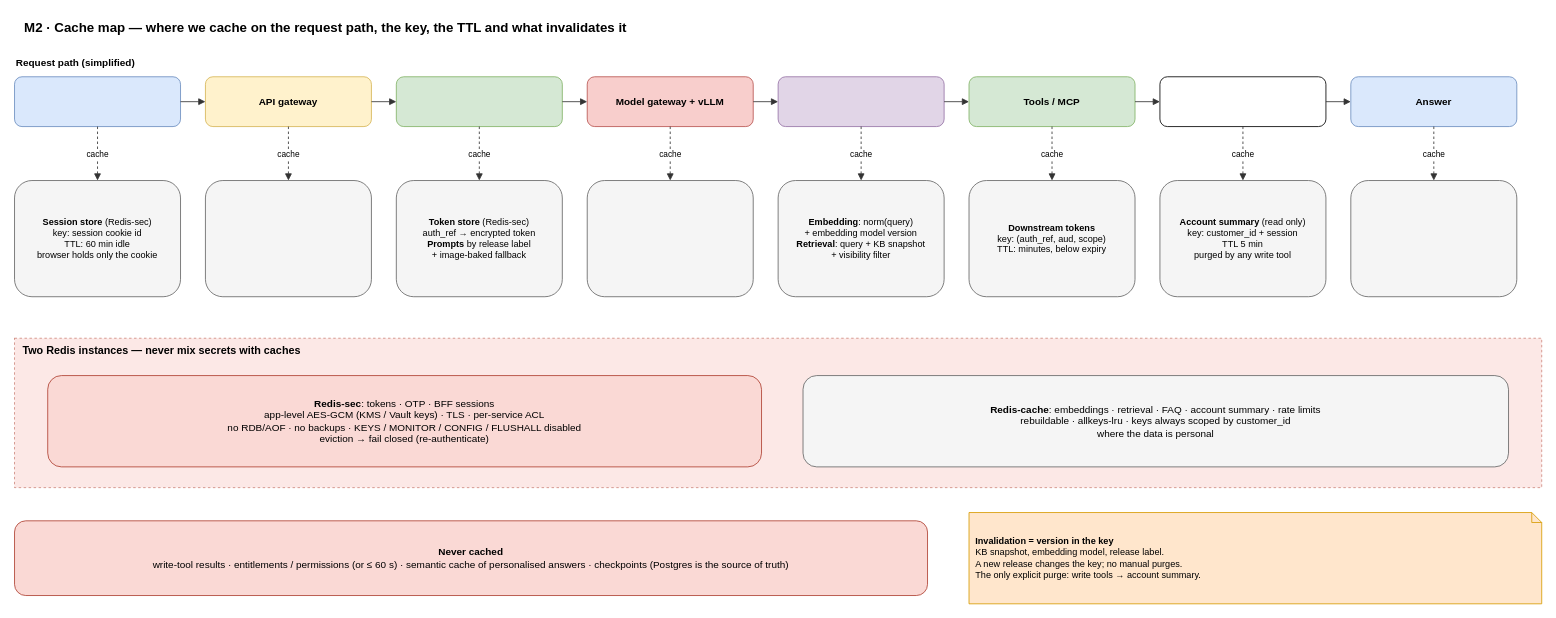
This 1556x618 diagram has some shape labels left out. The shapes that lost their labels are listed below. From the top down, each one's box as (x1, y1, x2, y2) in pixels, then its label:
(14, 76, 181, 127): BFF / voice gateway
(395, 76, 562, 127): Orchestrator
(777, 76, 944, 127): RAG
(1159, 76, 1326, 127): Systems of record
(205, 180, 371, 297): JWKS by kid refresh on unknown kid Rate-limit counters (Redis-cache)
(586, 180, 753, 297): Prefix cache vLLM APC / Bailian context cache static first, dynamic last
(1350, 180, 1517, 297): FAQ answers exact match only public, non-personal key includes KB snapshot
